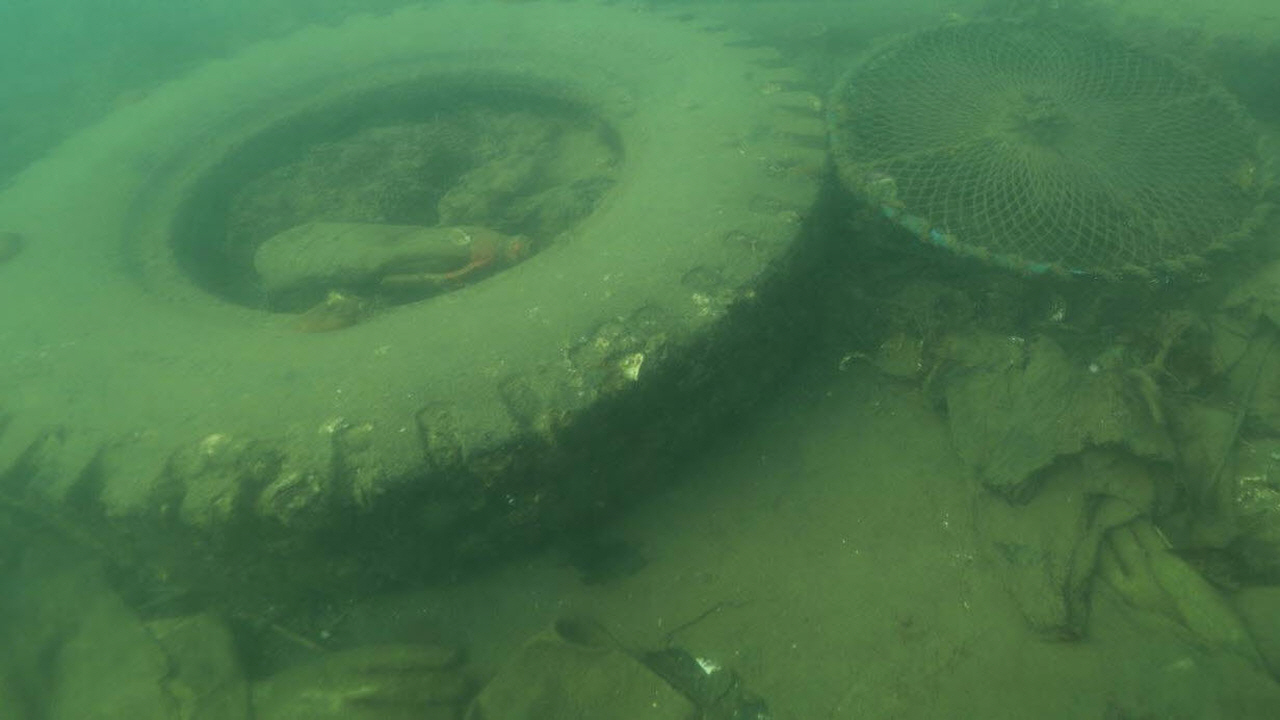circular fish trap: (0, 0, 825, 588), (826, 15, 1280, 329)
